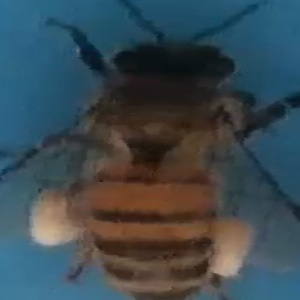bee: (12, 8, 298, 299)
